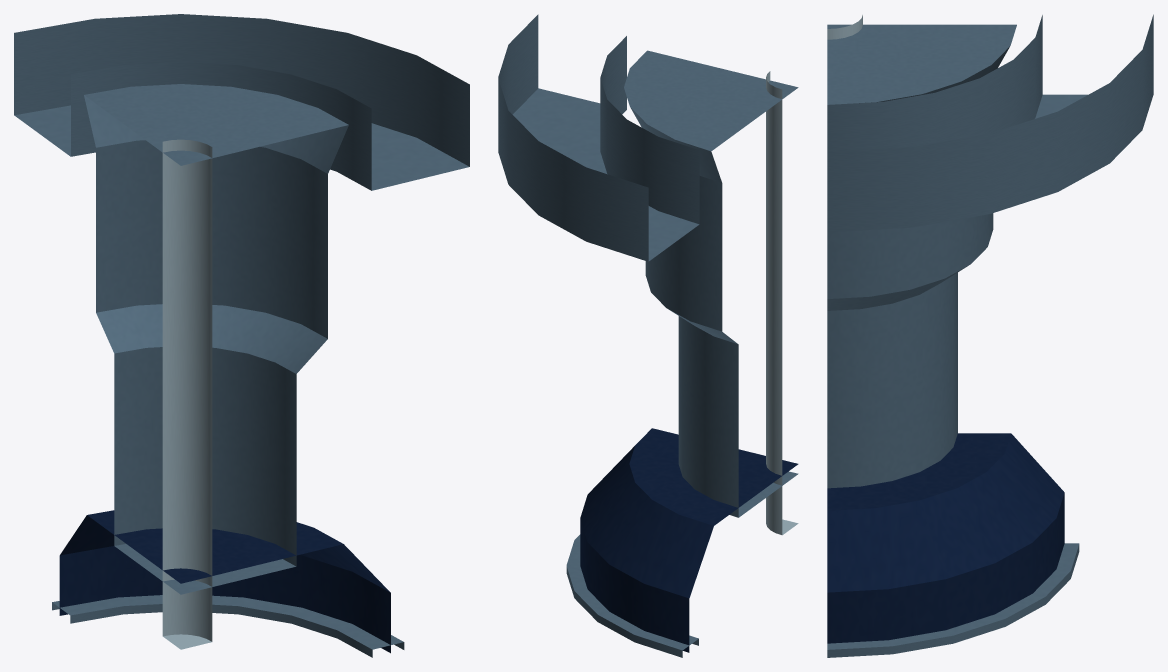
File: cell_9.obj
The picture shows the model from 3 angles, left to right: view 1: azimuth 30°, elevation 25°; view 2: azimuth 150°, elevation 25°; view 3: azimuth 270°, elevation 25°; orthographic projection. The views are drawn at different scales.
Visible parts, largest first — view 1: cell_9; view 2: cell_9; view 3: cell_9.
Part boxes in pixels (<box>): cell_9: <box>14,14,469,657</box>; cell_9: <box>498,14,798,657</box>; cell_9: <box>827,14,1153,657</box>.
Size of the model in its own units: 0.55 by 1 by 0.55.
